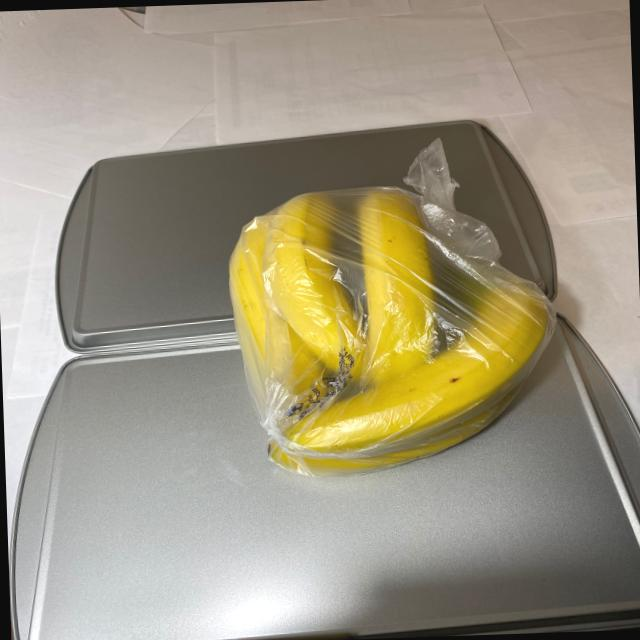banana: (222, 175, 564, 480)
